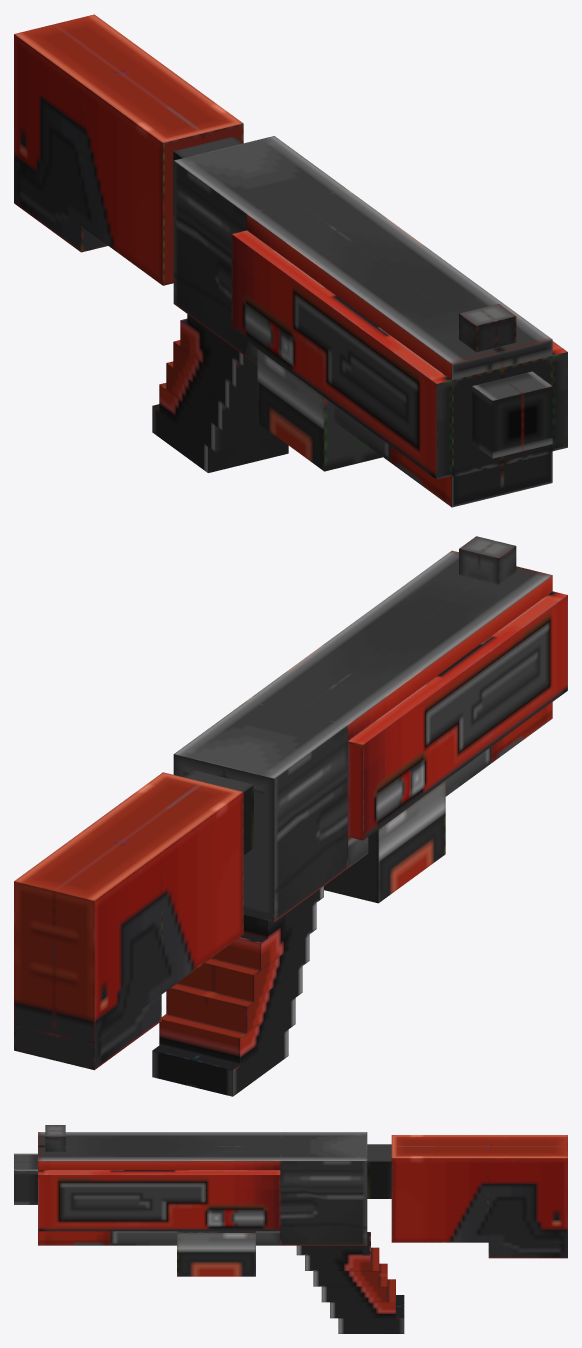
The model's file is Main_Weapon_01_lvl_1.FBX.
3 views of the same model, one above another, from view 1: azimuth 30°, elevation 25°; view 2: azimuth 150°, elevation 25°; view 3: azimuth 270°, elevation 25° (orthographic). The views are drawn at different scales.
Parts seen in each view (by area): view 1: Main_Weapon_01_lvl_1; view 2: Main_Weapon_01_lvl_1; view 3: Main_Weapon_01_lvl_1.
Boxes of the visible parts, <box> form: Main_Weapon_01_lvl_1: <box>14,14,567,507</box>; Main_Weapon_01_lvl_1: <box>14,536,567,1096</box>; Main_Weapon_01_lvl_1: <box>14,1125,567,1333</box>.
Bounding box in the file's own units: 17.44 × 41.07 × 108.
